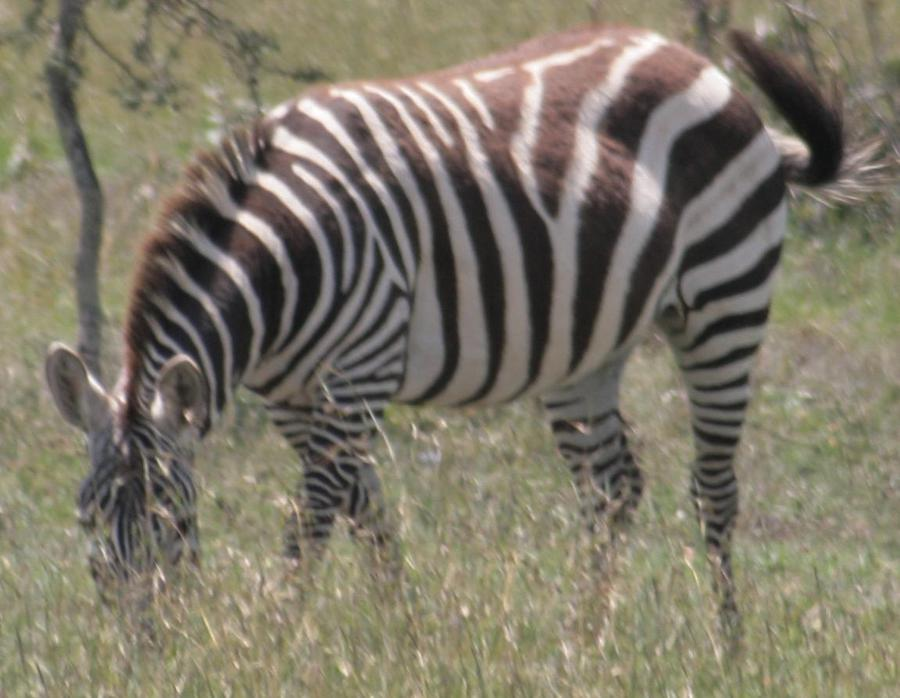zebra_plains: (217, 43, 834, 409)
